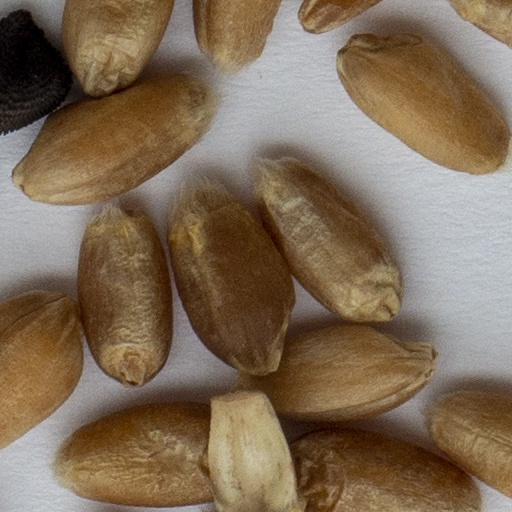Agrostemma-poly: (0, 0, 71, 136)
Peel-poly: (208, 389, 297, 511)
Wheat-grain-damaged-poly: (61, 0, 173, 95)
